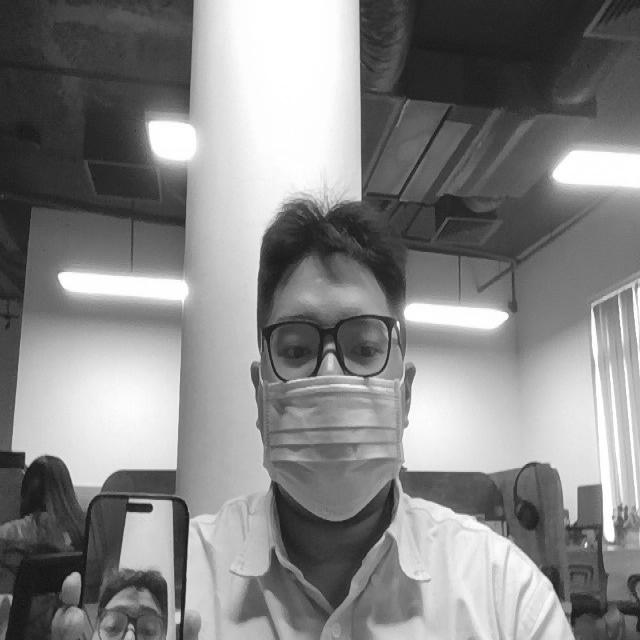fake: (48, 459, 206, 640), (263, 374, 406, 525), (88, 562, 175, 640)
real: (221, 166, 438, 594), (263, 315, 403, 375)
